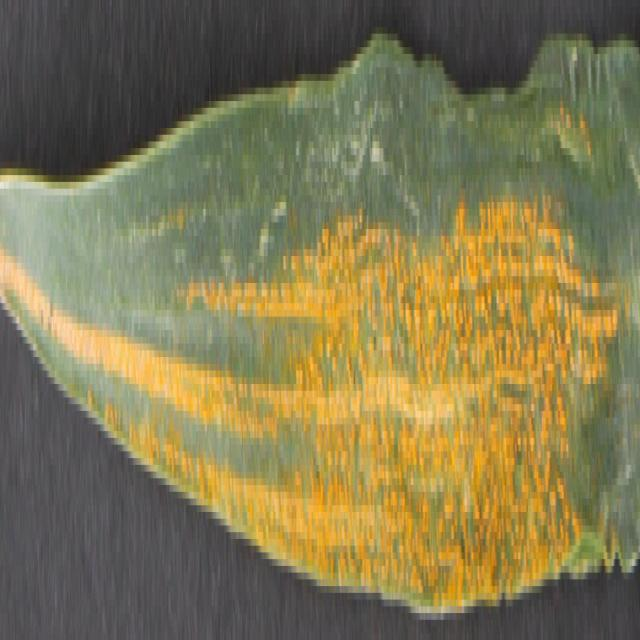leaf rust: (1, 94, 631, 586)
